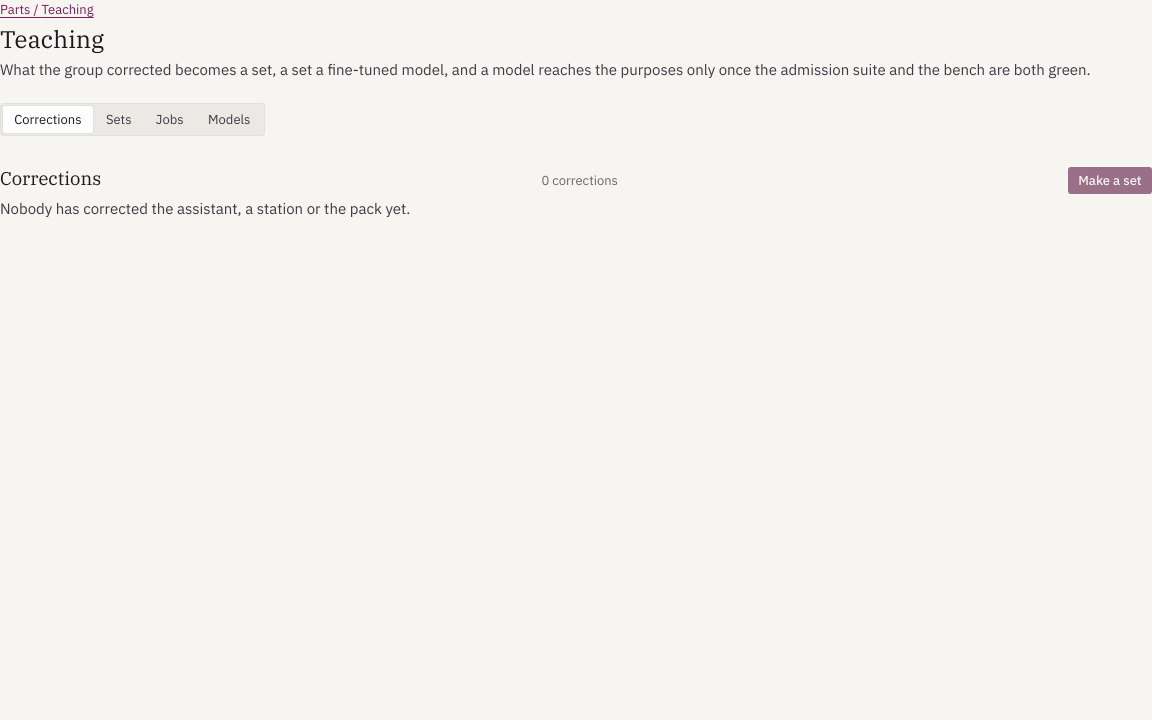
Scenario: the Teaching page › offers each candidate its next gate, promotes once both are green, and rolls a promotion back
Click the tab "Models". click: (229, 120)
box: top-left (197, 106), bottom-right (262, 133)
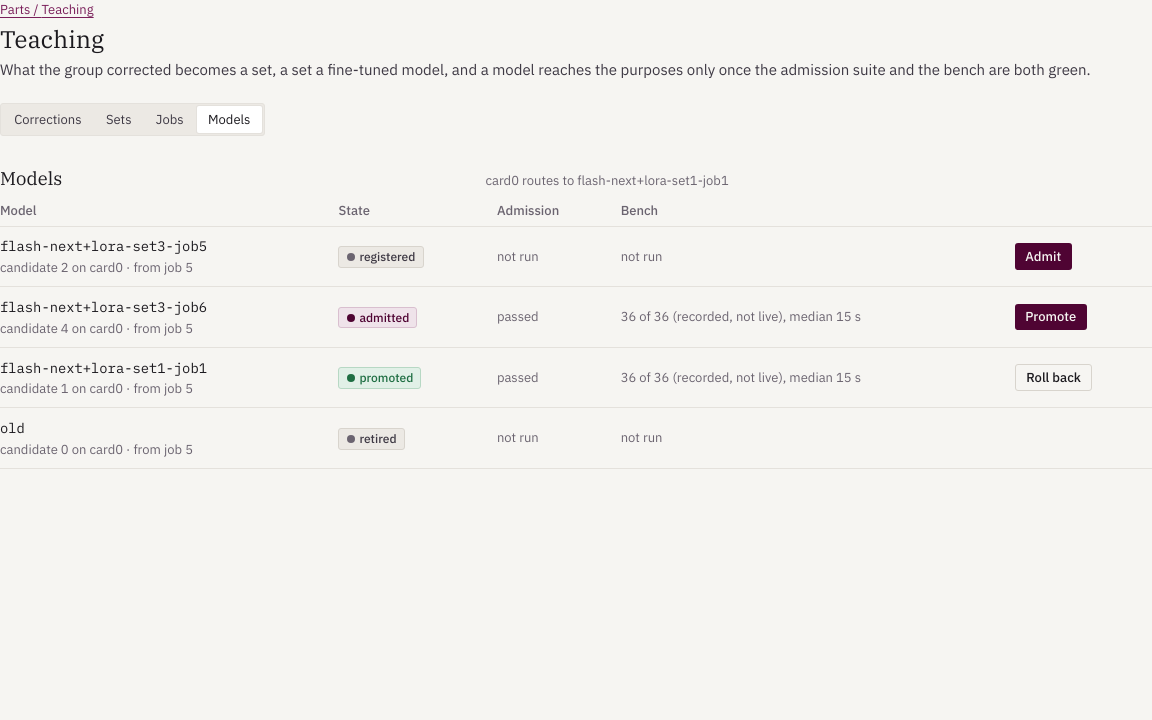
Expected: the text "card0 routes to flash-next+lora-set1-job1" is shown, top-left (485, 171), bottom-right (729, 190)
Expected: the button "Admit" is shown
Expected: the button "Admit" is enabled
Click the button "Admit". click: (1043, 256)
box: top-left (1015, 243), bottom-right (1072, 270)
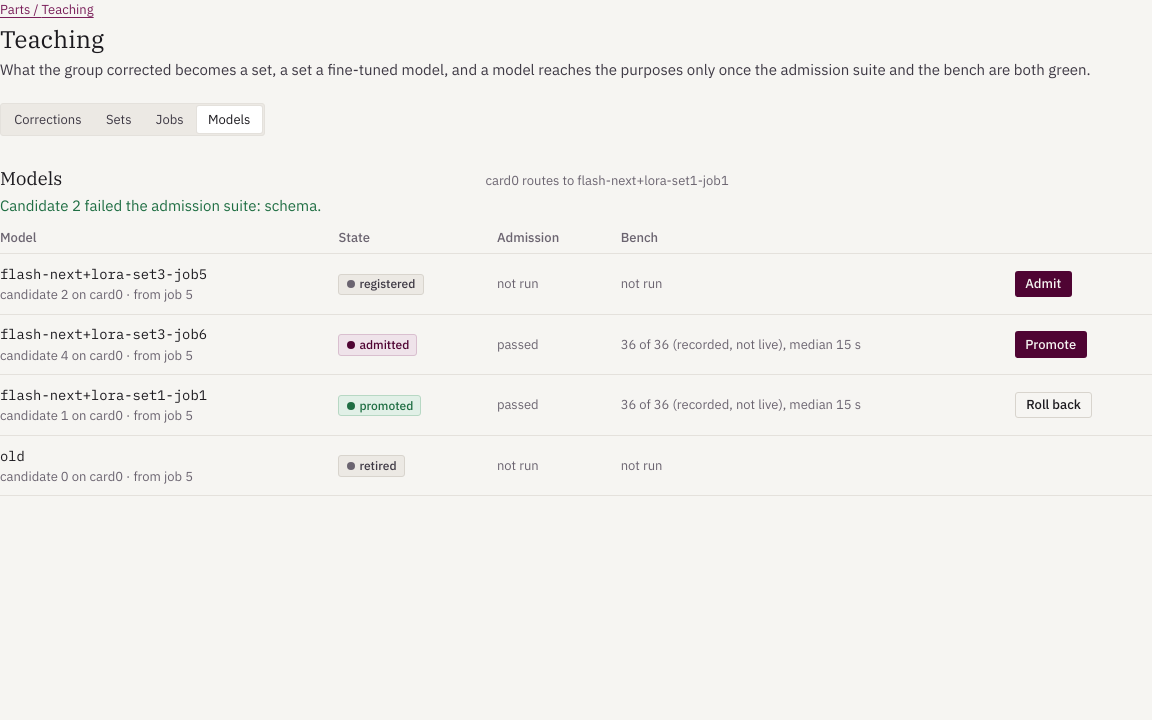
Expected: the button "Promote" is shown
Expected: the button "Promote" is enabled
Expected: the text "Candidate 2 failed the admission suite: schema." is shown, top-left (0, 196), bottom-right (321, 215)
Click the button "Promote". click: (1051, 344)
box: top-left (1015, 331), bottom-right (1087, 358)
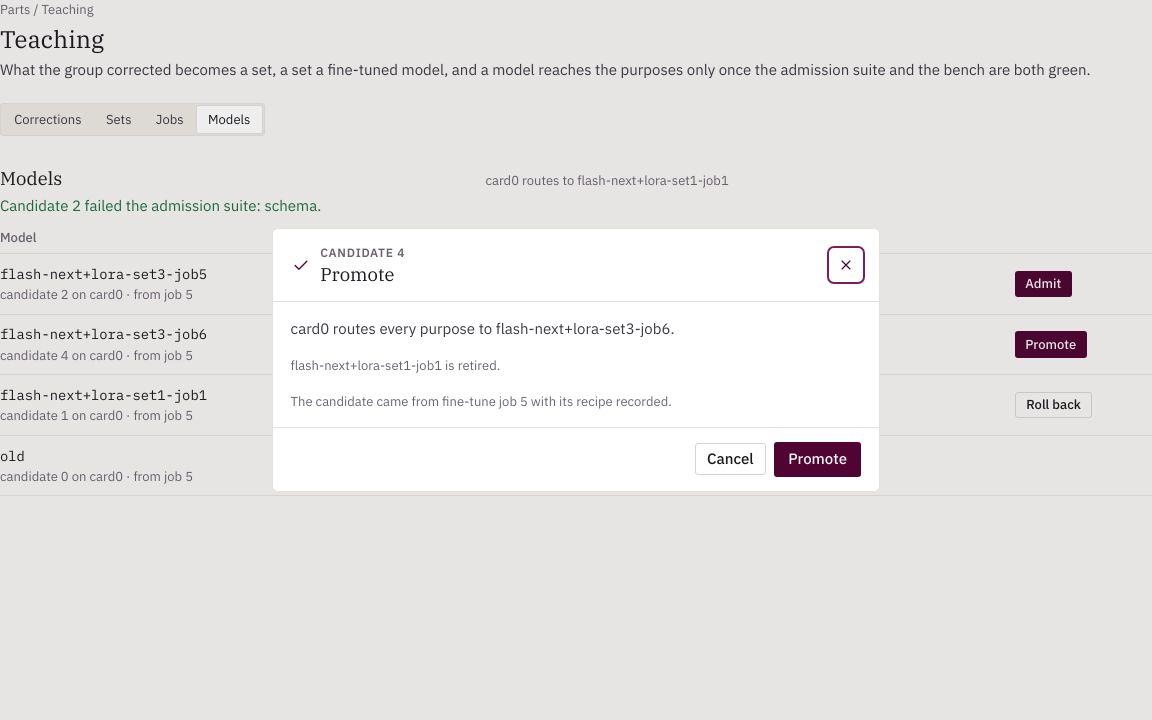
Expected: the text "card0 routes every purpose to flash-next+lora-set3-job6." is shown, top-left (291, 319), bottom-right (675, 338)
Expected: the text "flash-next+lora-set1-job1 is retired." is shown, top-left (291, 357), bottom-right (500, 374)
Click the button "Promote". click: (818, 459)
box: top-left (774, 442), bottom-right (861, 477)
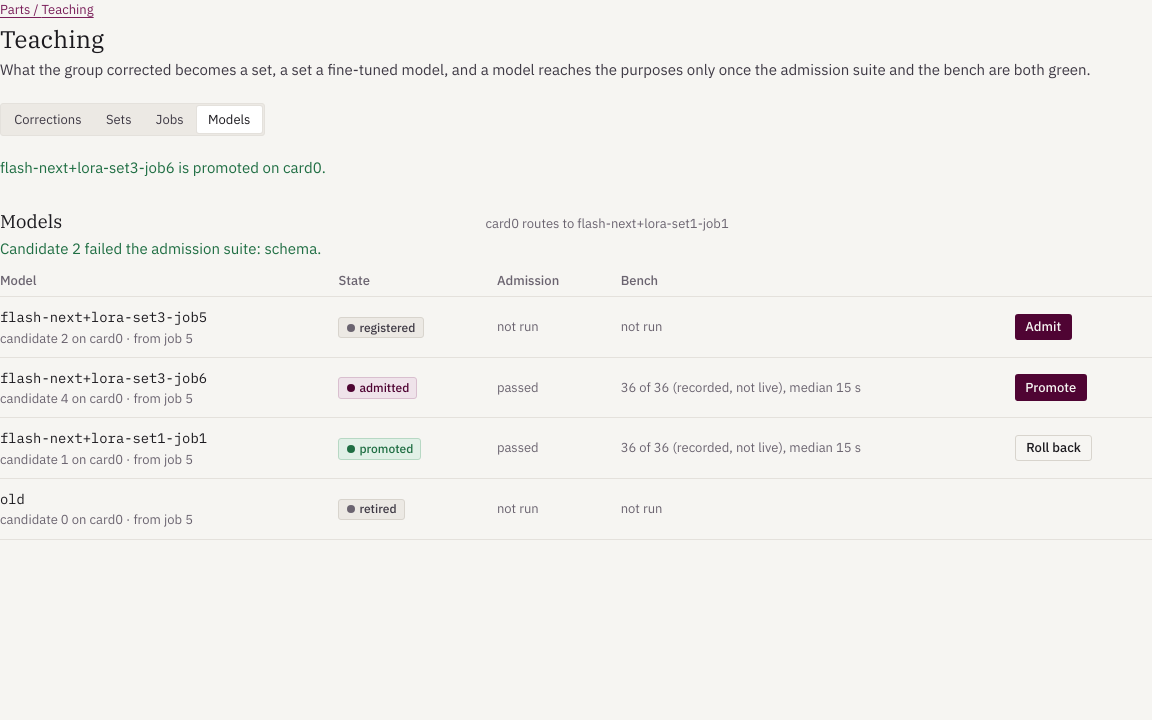
Expected: the button "Roll back" is shown
Expected: the button "Roll back" is enabled
Expected: the text "flash-next+lora-set3-job6 is promoted on card0." is shown, top-left (0, 158), bottom-right (326, 177)
Click the button "Roll back". click: (1054, 448)
box: top-left (1015, 435), bottom-right (1092, 461)
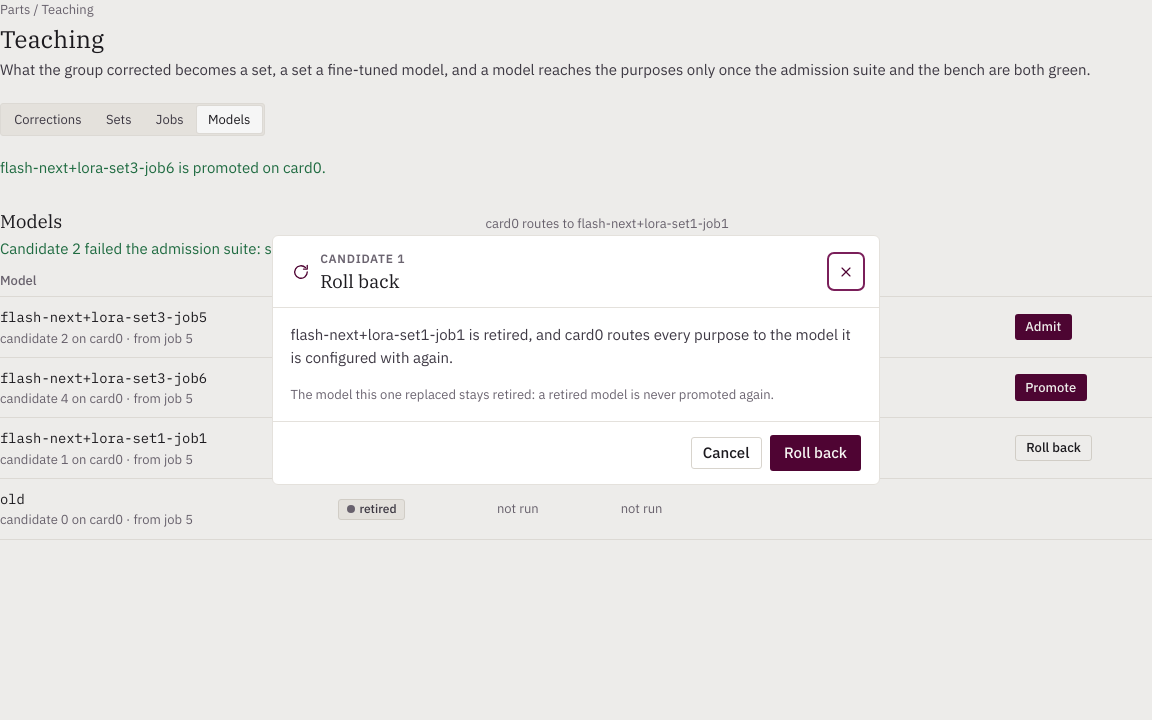
Expected: the text "routes every purpose to the model it is configured with again" is shown, top-left (291, 325), bottom-right (851, 367)
Click the button "Roll back". click: (816, 453)
box: top-left (770, 435), bottom-right (861, 471)
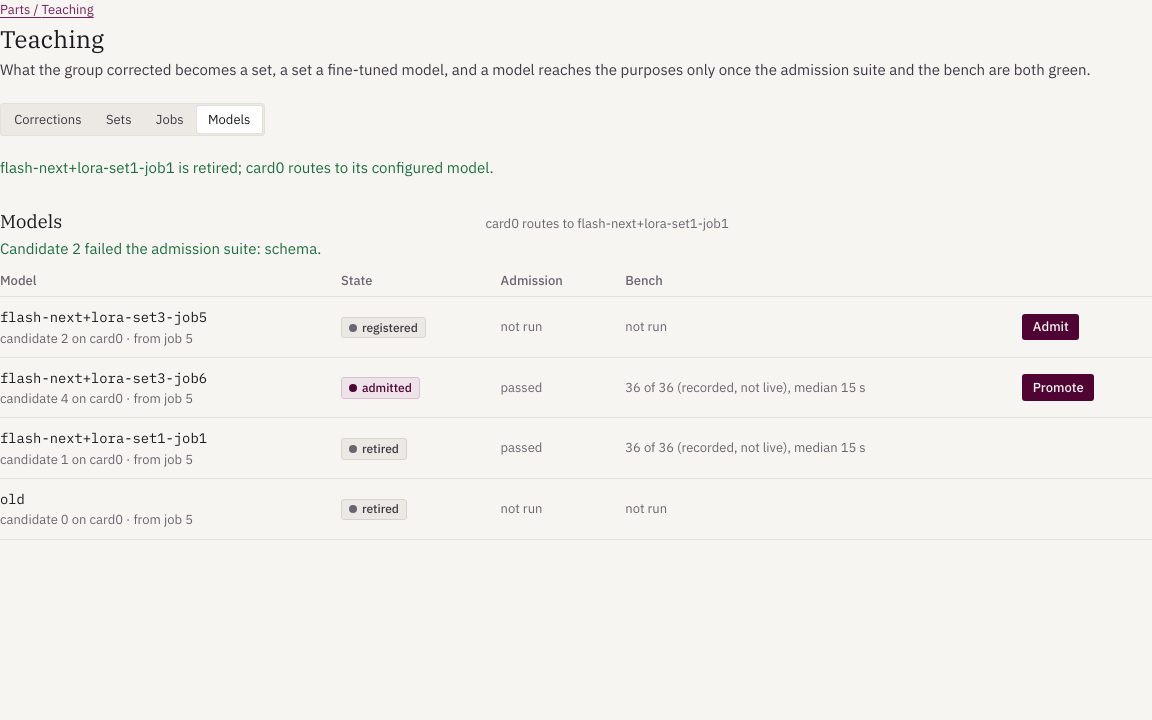
Expected: the text "flash-next+lora-set1-job1 is retired; card0 routes to its configured model." is shown, top-left (0, 158), bottom-right (494, 177)
